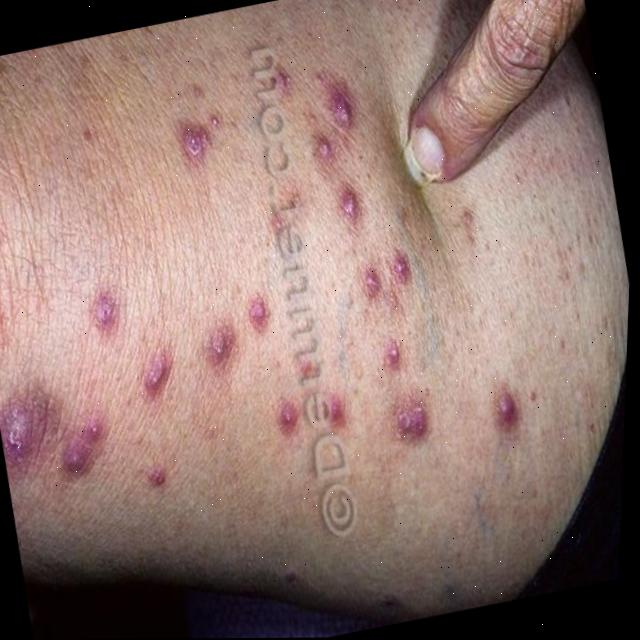Eczema: (0, 36, 551, 546)
